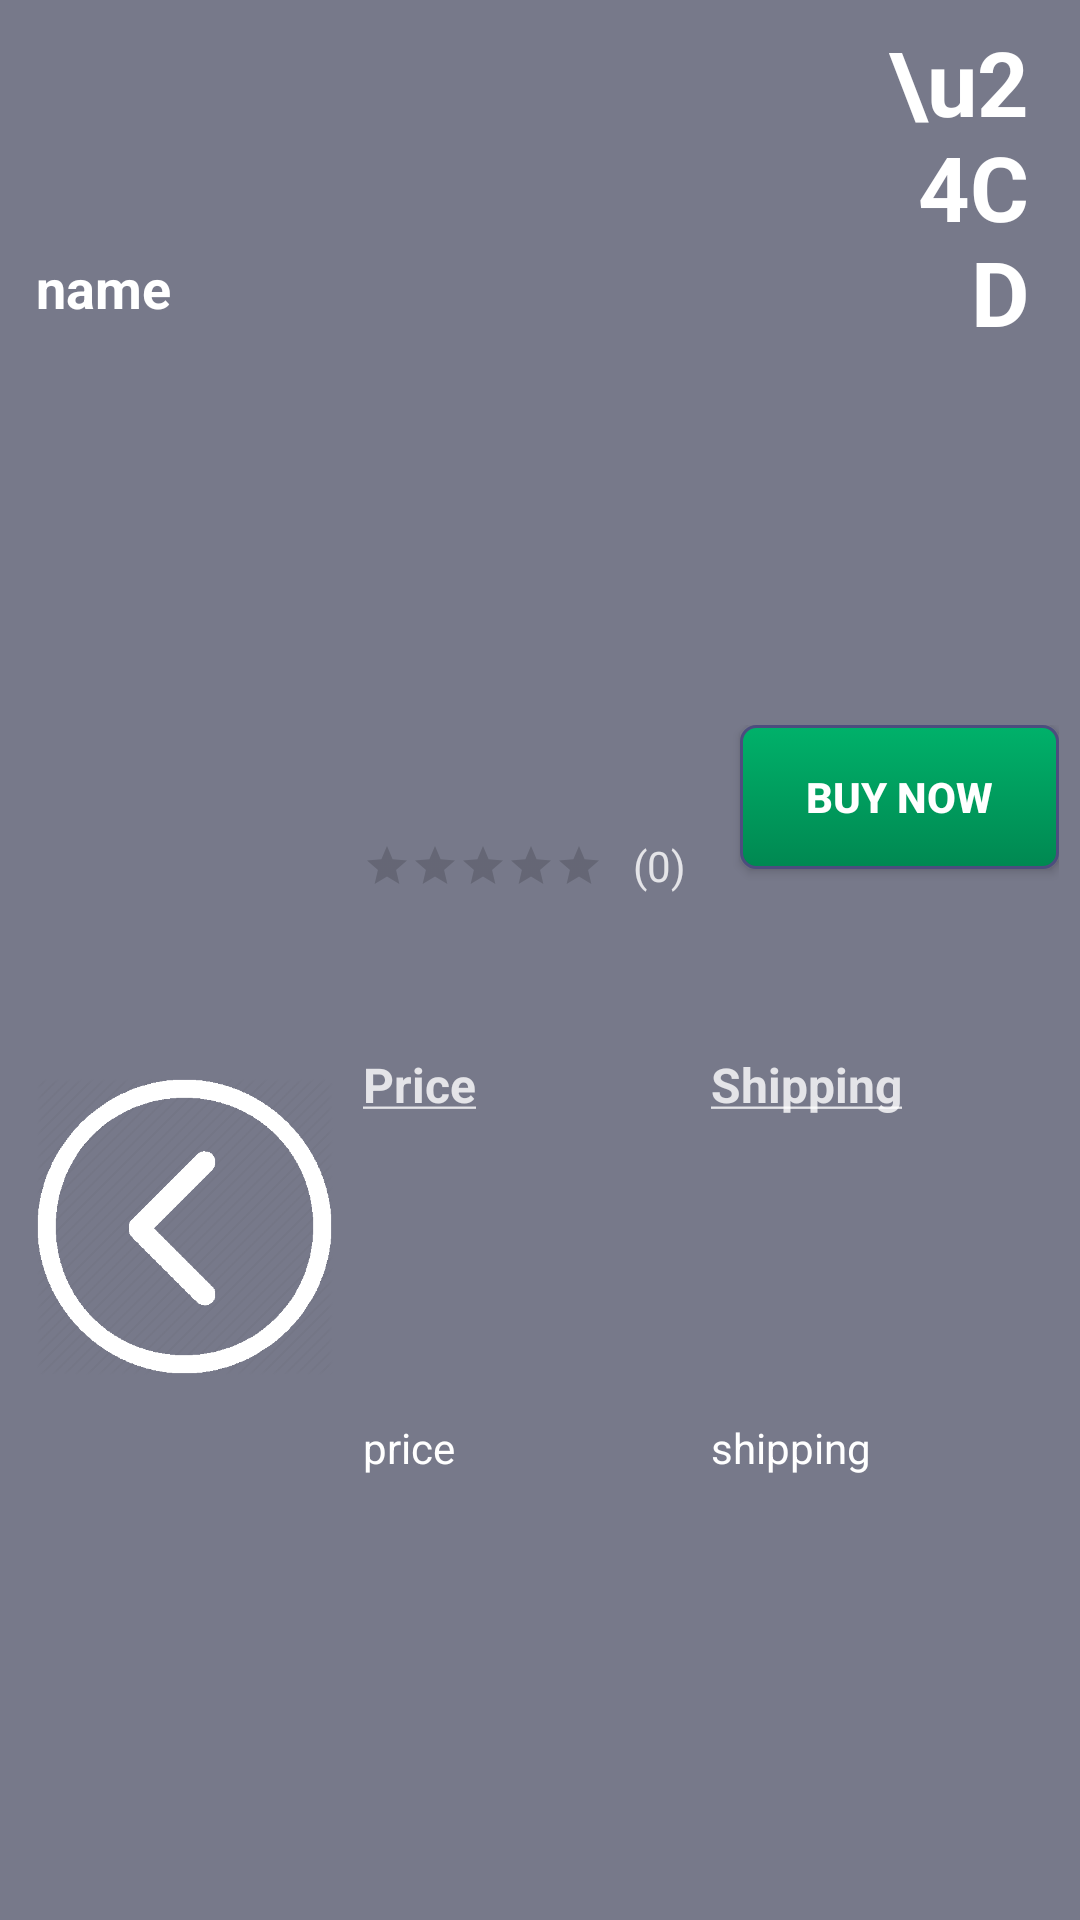

Locate icon controls on the screen. Image size 1080px×1920px, boxes as (x1, y1, x2, y2).
back: (38, 1080, 331, 1373)
